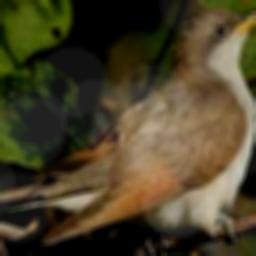Cuckoo: (9, 10, 256, 244)
